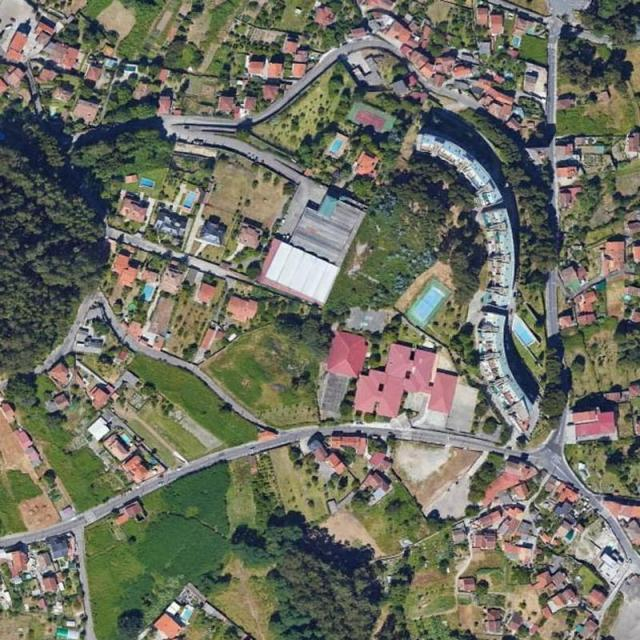vehicle: (158, 482, 164, 487)
